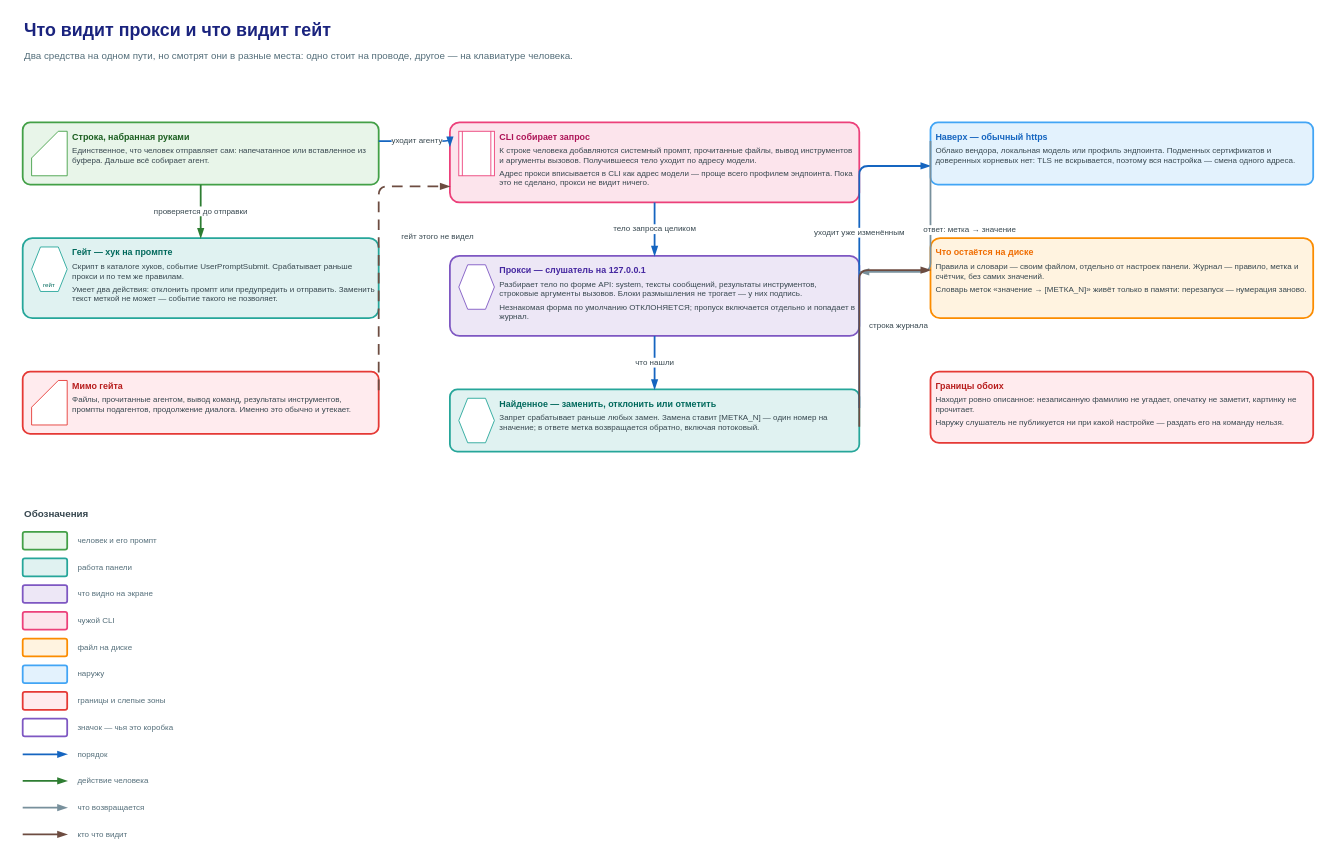
The diagram is 1329 pixels wide and 858 high, and some of its shapes have lost their labels. The shapes that lost their labels are listed below. From the top down, each one's box as (x1, y1, x2, y2) in pixels, then its label:
(31, 130, 67, 176): вы
(458, 130, 494, 176): CLI
(458, 264, 494, 309): прокси
(31, 380, 67, 425): мимо
(458, 397, 494, 443): правила
